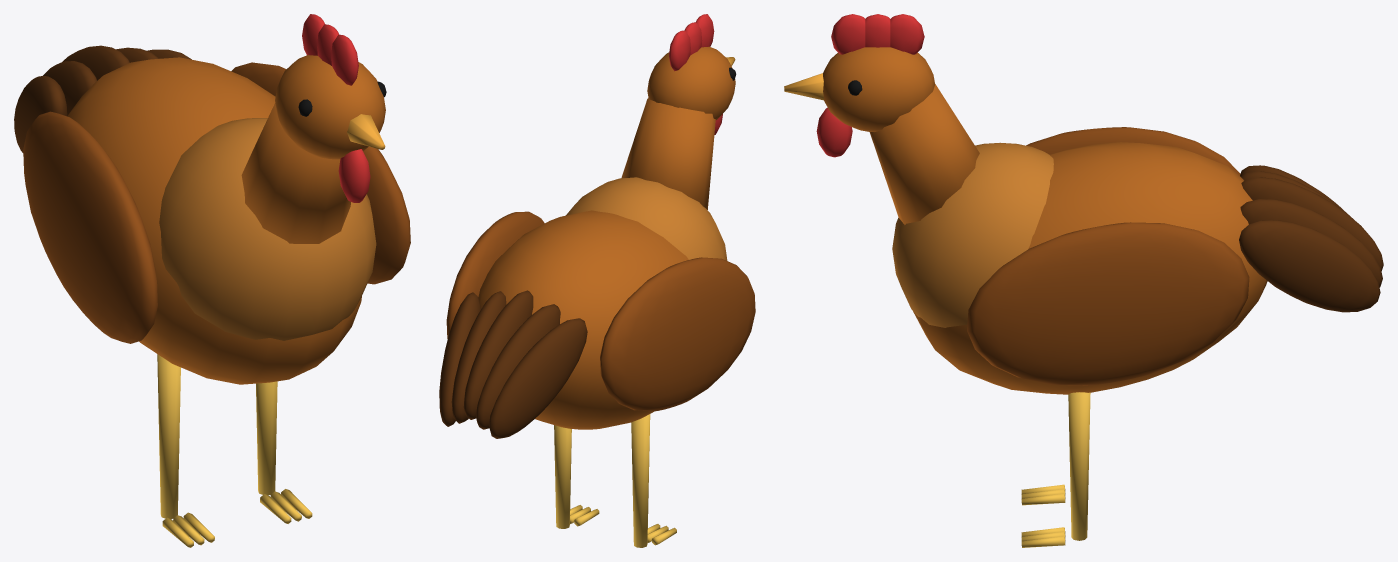
3 views of the same model, side by side, from view 1: azimuth 30°, elevation 25°; view 2: azimuth 150°, elevation 25°; view 3: azimuth 270°, elevation 25° (orthographic). The views are drawn at different scales.
Visible parts, largest first — view 1: layer; view 2: layer; view 3: layer.
Part boxes in pixels (bbox=[...]): layer: bbox=[14, 14, 410, 547]; layer: bbox=[439, 14, 755, 547]; layer: bbox=[784, 14, 1383, 547].
Bounding box in the file's own units: 0.4041 × 0.779 × 0.8332.
